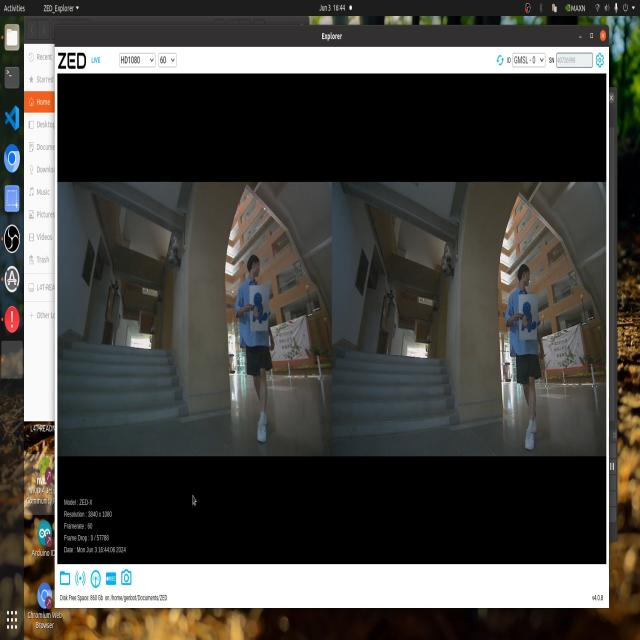blue: (515, 300, 549, 345), (256, 302, 270, 327)
